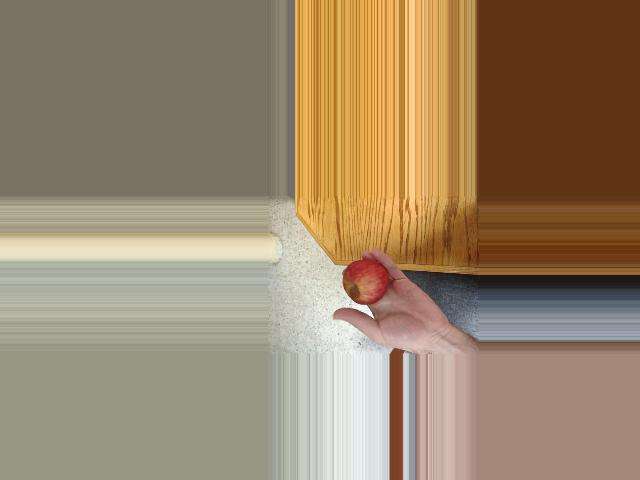apple: (341, 257, 387, 308)
